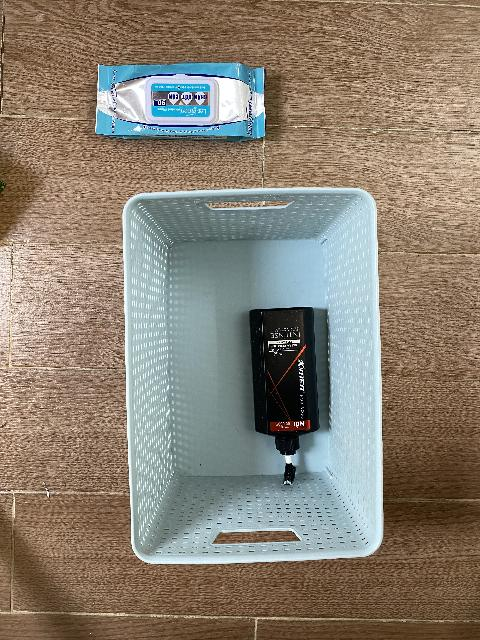Let-green_alcohol_wipes: (94, 62, 267, 142)
X-men: (249, 306, 320, 485)
cart: (123, 187, 384, 564)
